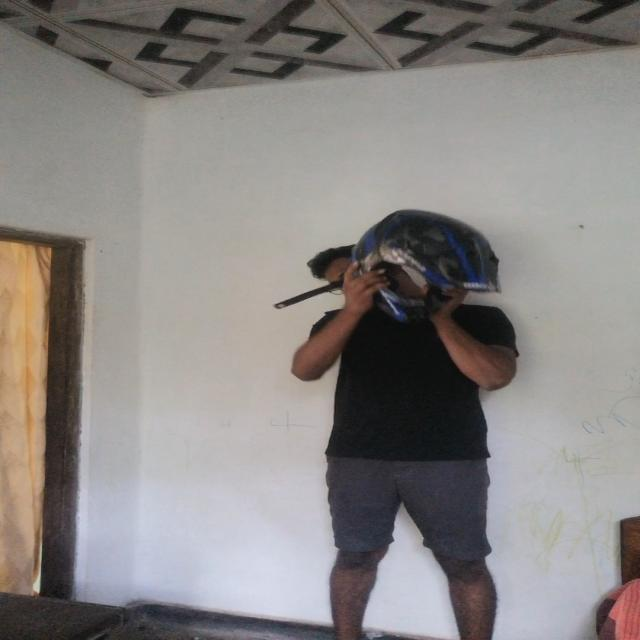Person: (276, 220, 540, 638)
